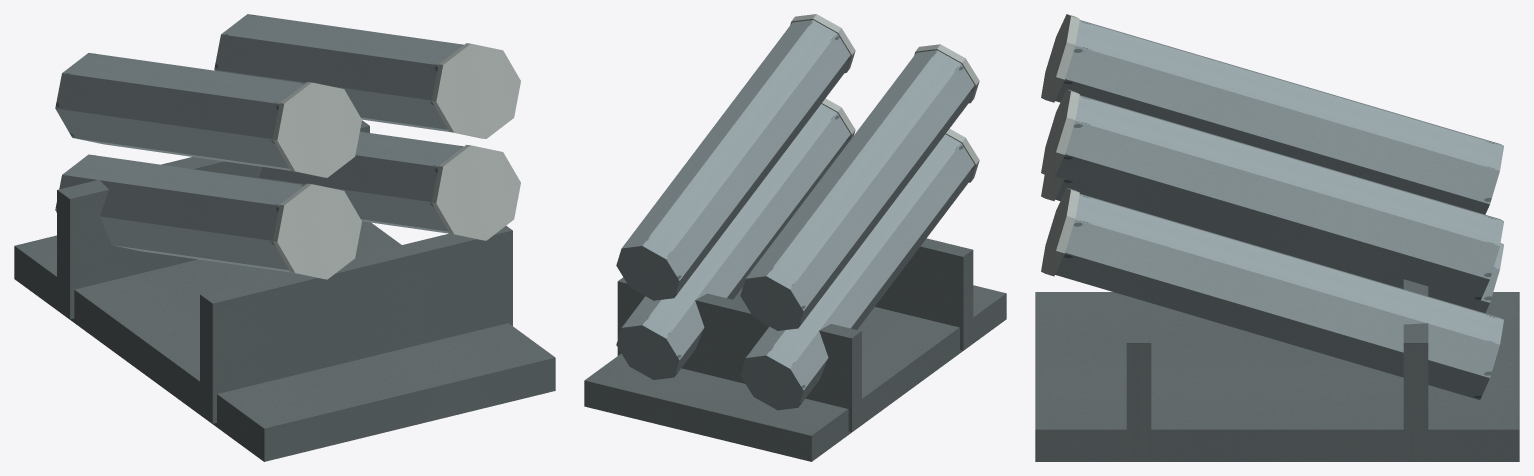
Rendered from mount_f124_harpoon.glb.
3 views of the same model, side by side, from view 1: azimuth 30°, elevation 25°; view 2: azimuth 150°, elevation 25°; view 3: azimuth 270°, elevation 25° (orthographic). The views are drawn at different scales.
Visible parts, largest first — view 1: MESH_F124_TEMPLATE_harpoon.006_F124_PaintedSteel_UV.054; view 2: MESH_F124_TEMPLATE_harpoon.006_F124_PaintedSteel_UV.054; view 3: MESH_F124_TEMPLATE_harpoon.006_F124_PaintedSteel_UV.054.
Boxes of the visible parts, bbox=[...] form: MESH_F124_TEMPLATE_harpoon.006_F124_PaintedSteel_UV.054: bbox=[14, 14, 555, 461]; MESH_F124_TEMPLATE_harpoon.006_F124_PaintedSteel_UV.054: bbox=[584, 14, 1006, 461]; MESH_F124_TEMPLATE_harpoon.006_F124_PaintedSteel_UV.054: bbox=[1035, 14, 1519, 461].
Bounding box in the file's own units: 238 × 265 × 343.
Materials: 1 (1 with a texture image).
